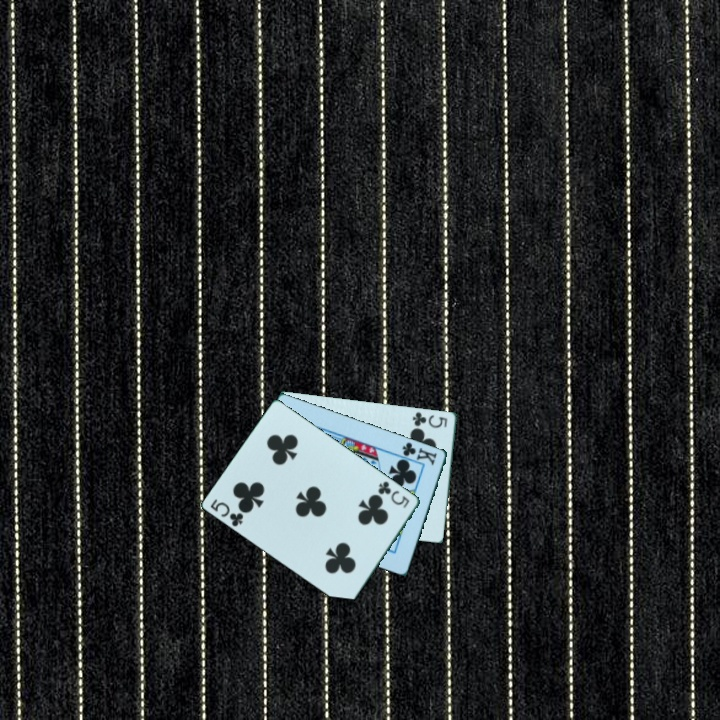5c: (207, 495, 247, 530), (375, 477, 413, 511), (409, 408, 450, 431)
Kc: (399, 438, 440, 468)
